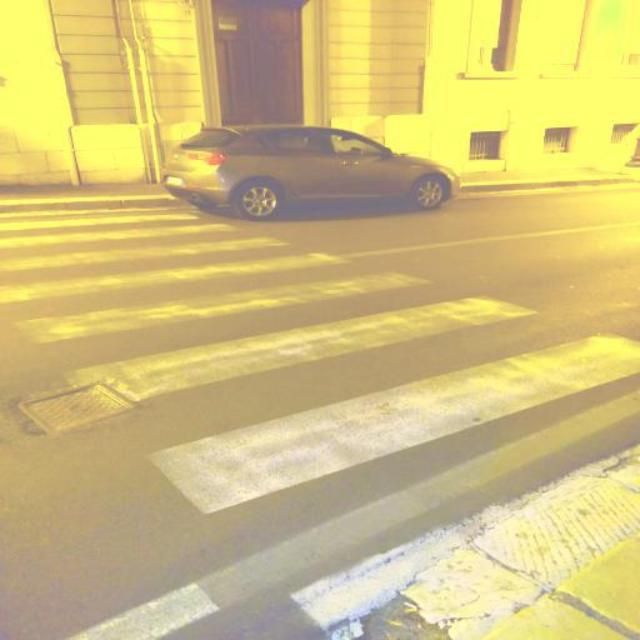sidewalk: (0, 181, 640, 640)
